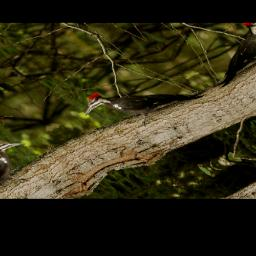Woodpecker: (69, 60, 213, 142)
